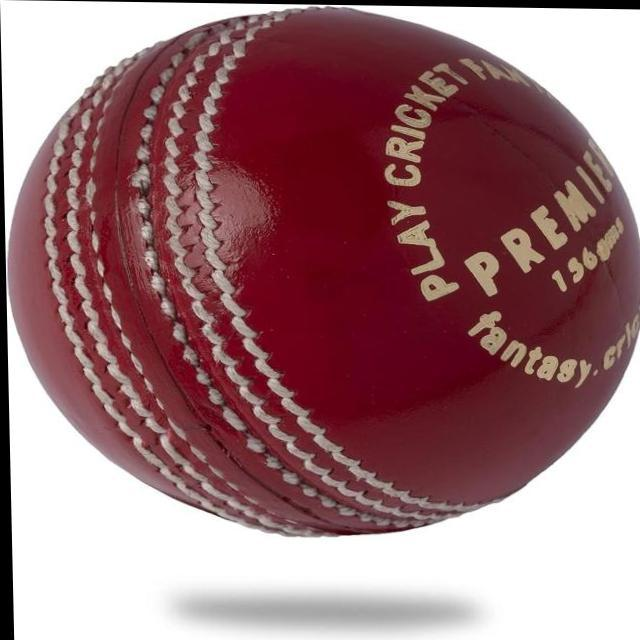cricket ball: (6, 6, 640, 536)
